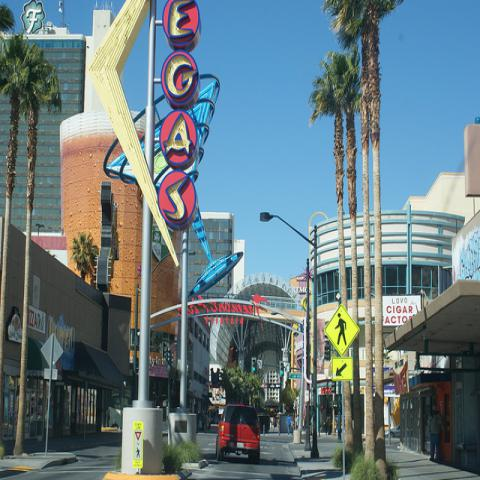car: (215, 404, 260, 460), (385, 424, 400, 438)
